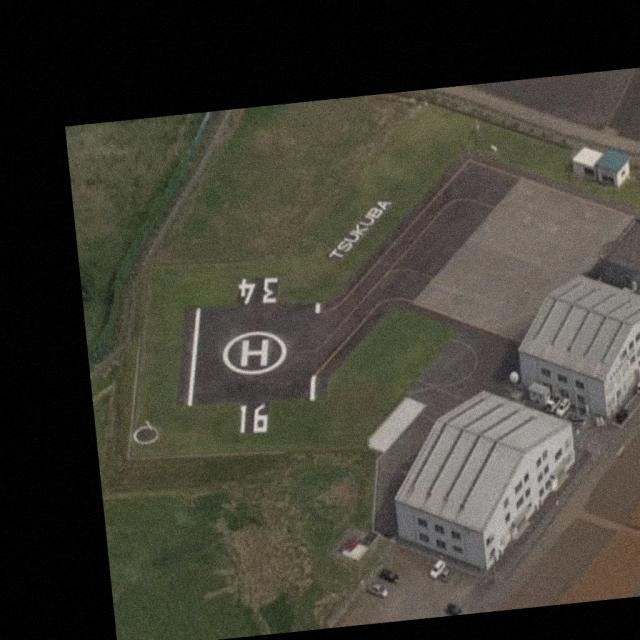helipad: (219, 330, 287, 376)
